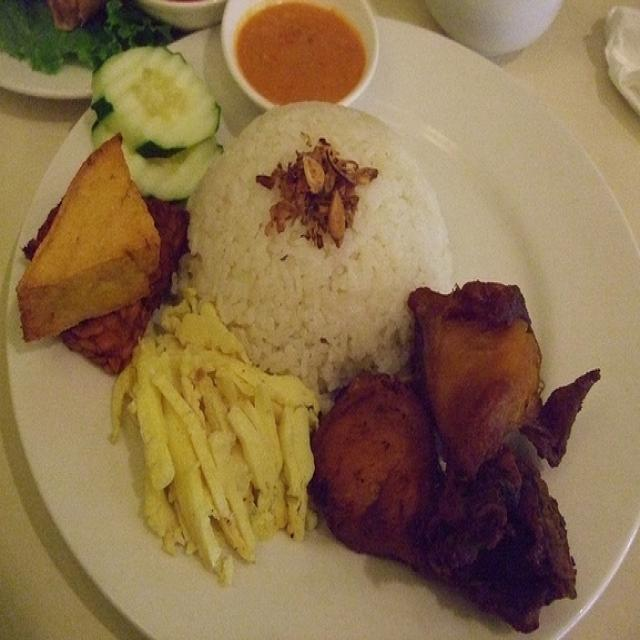米饭主食: (15, 7, 618, 615)
